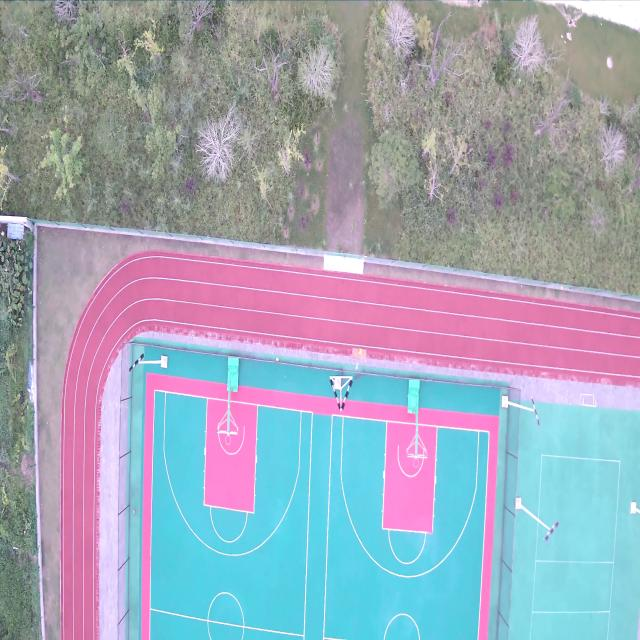UAV: (353, 359, 362, 374)
